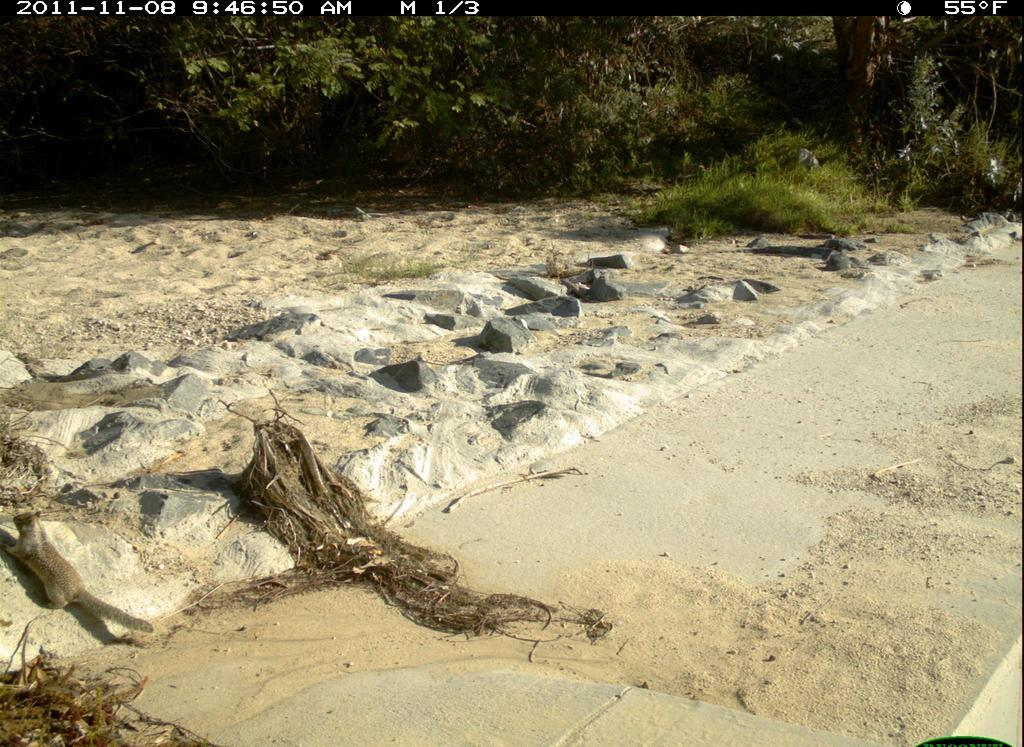squirrel: (6, 510, 164, 638)
